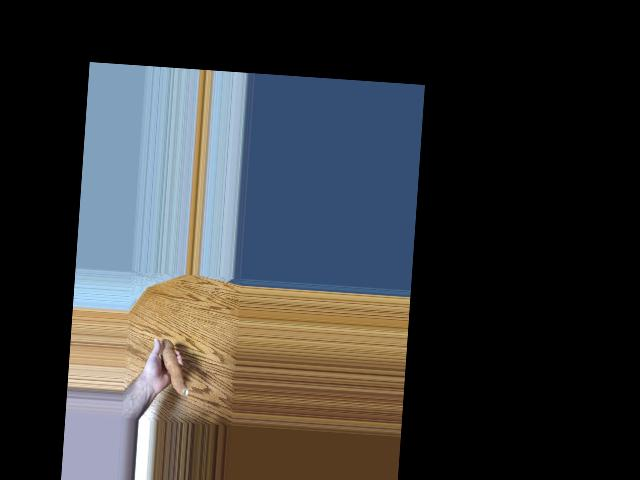sweet_potato: (158, 336, 191, 397)
